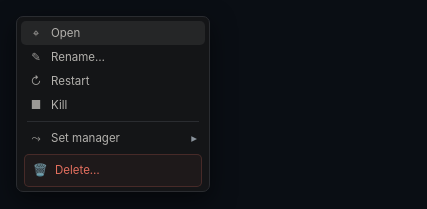
Scenario: AgentContextMenu — set-manager submenu › excludes the target's descendants from candidates (no cycles)
Click the menu item "⤳ Set manager ▸" at [113, 138], box [21, 126, 205, 150]
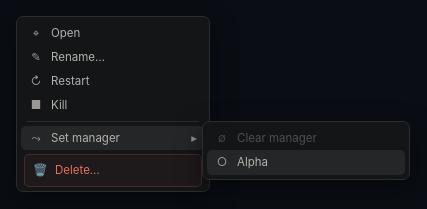
Now the menu item "○ Alpha" is shown, box [207, 150, 405, 175]
